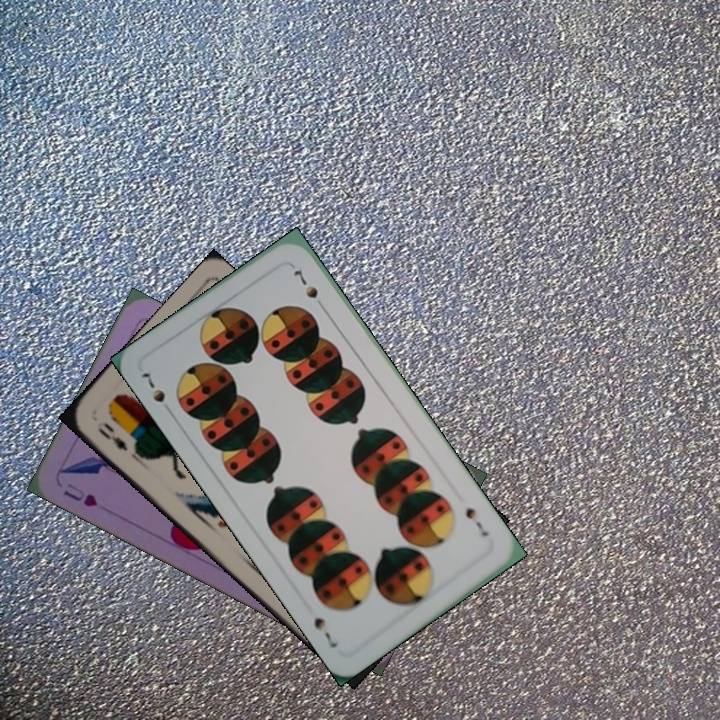EO: (93, 418, 131, 454)
HU: (59, 479, 101, 510)
S7: (138, 366, 168, 406), (461, 503, 492, 540)
